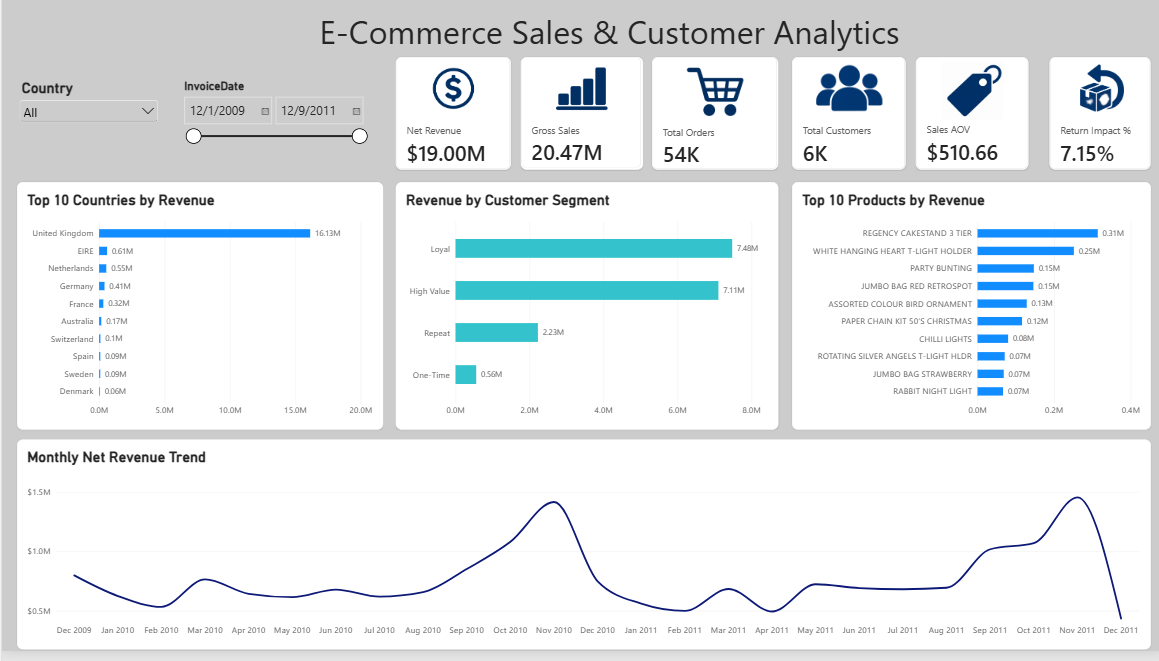

The page's visual inventory and layout, read from the dashboard file:
{"tool":"powerbi","page":{"name":"Page 1","canvas":[1920,1080],"ordinal":0},"visuals":[{"type":"cardVisual","fields":{"Data":["online_retail_clean.Net Revenue"]},"box":[651.2,99.2,190.2,186],"z":0},{"type":"cardVisual","fields":{"Data":["online_retail_clean.Gross Sales"]},"box":[857.9,99.2,202.6,186],"z":1},{"type":"cardVisual","fields":{"Data":["online_retail_clean.Total Customers"]},"box":[1306.5,99.2,188.1,186],"z":3},{"type":"cardVisual","fields":{"Data":["online_retail_clean.Sales AOV"]},"box":[1511.1,99.2,186,186],"z":5},{"type":"cardVisual","fields":{"Data":["online_retail_clean.Return Impact %"]},"box":[1732.3,99.2,167.4,186],"z":6},{"type":"lineChart","title":"Monthly Net Revenue Trend","fields":{"Category":["online_retail_clean.YearMonth"],"Y":["online_retail_clean.Net Revenue"]},"box":[24.8,731.8,1874.9,347.3],"z":7},{"type":"clusteredBarChart","title":"Top 10 Products by Revenue","fields":{"Category":["online_retail_clean.Description"],"Y":["Sum(online_retail_clean.Revenue)"]},"box":[1306.5,305.9,593.3,409.3],"z":8},{"type":"clusteredBarChart","title":"Top 10 Countries by Revenue","fields":{"Category":["online_retail_clean.Country"],"Y":["Sum(online_retail_clean.Revenue)"]},"box":[24.8,305.9,605.7,409.3],"z":9},{"type":"clusteredBarChart","title":"Revenue by Customer Segment","fields":{"Category":["Customer Summary.Customer Segment"],"Y":["online_retail_clean.Gross Sales"]},"box":[651.2,305.9,632.6,409.3],"z":10},{"type":"slicer","fields":{"Values":["online_retail_clean.Country"]},"box":[24.8,136.4,237.7,169.5],"z":11},{"type":"slicer","fields":{"Values":["online_retail_clean.InvoiceDate"]},"box":[293.5,136.4,314.2,169.5],"z":12},{"type":"textbox","box":[524.9,20.6,996.2,78.2],"z":13},{"type":"cardVisual","fields":{"Data":["online_retail_clean.Total Orders"]},"box":[1074.9,99.2,208.8,186],"z":14}]}

Visuals, with their boxes in screenshot pixels (x1, y1, x2, y2), scaled from the page's 1920x1080 canvas onto the 1159x661 screenshot:
cardVisual - online_retail_clean.Net Revenue: BBox(393, 61, 508, 175)
cardVisual - online_retail_clean.Gross Sales: BBox(518, 61, 640, 175)
cardVisual - online_retail_clean.Total Customers: BBox(789, 61, 902, 175)
cardVisual - online_retail_clean.Sales AOV: BBox(912, 61, 1024, 175)
cardVisual - online_retail_clean.Return Impact %: BBox(1046, 61, 1147, 175)
"Monthly Net Revenue Trend" lineChart: BBox(15, 448, 1147, 660)
"Top 10 Products by Revenue" clusteredBarChart: BBox(789, 187, 1147, 438)
"Top 10 Countries by Revenue" clusteredBarChart: BBox(15, 187, 381, 438)
"Revenue by Customer Segment" clusteredBarChart: BBox(393, 187, 775, 438)
slicer - online_retail_clean.Country: BBox(15, 83, 158, 187)
slicer - online_retail_clean.InvoiceDate: BBox(177, 83, 367, 187)
textbox: BBox(317, 13, 918, 60)
cardVisual - online_retail_clean.Total Orders: BBox(649, 61, 775, 175)
